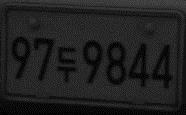4: (151, 44, 174, 89), (128, 43, 150, 88)
7: (32, 36, 56, 81)
8: (104, 41, 127, 87)
9: (82, 39, 104, 85), (10, 35, 32, 79)
두: (56, 45, 78, 84)
